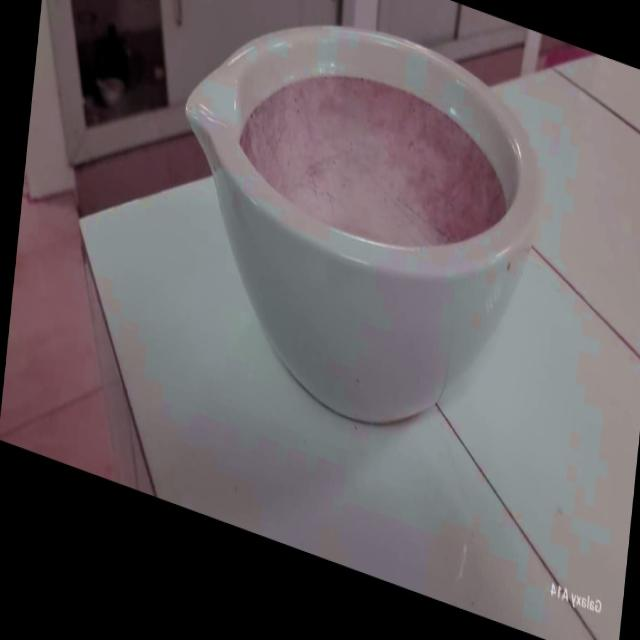Mortar and Pestle: (161, 0, 552, 483)
